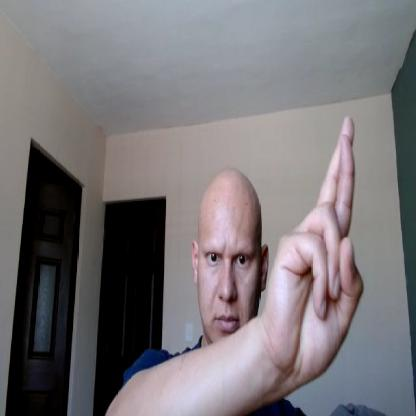R: (266, 114, 365, 385)
